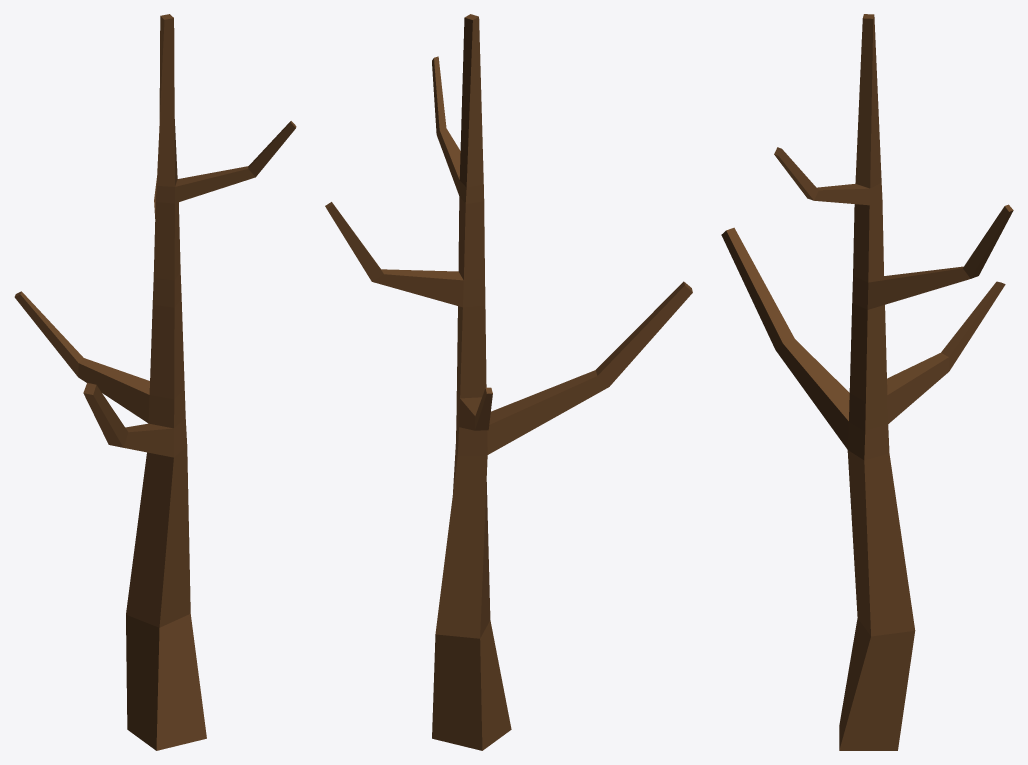
File: albero5.obj
3 views of the same model, side by side, from view 1: azimuth 30°, elevation 25°; view 2: azimuth 150°, elevation 25°; view 3: azimuth 270°, elevation 25° (orthographic).
Parts seen in each view (by area): view 1: DeadOak2; view 2: DeadOak2; view 3: DeadOak2.
Part boxes in pixels (box(x1,y1,x2,y2)): DeadOak2: box(14, 14, 296, 750); DeadOak2: box(325, 14, 692, 750); DeadOak2: box(721, 14, 1013, 750).
Size of the model in its own units: 2.3 by 6.65 by 2.44.
Materials: 1 (1 with a texture image).
